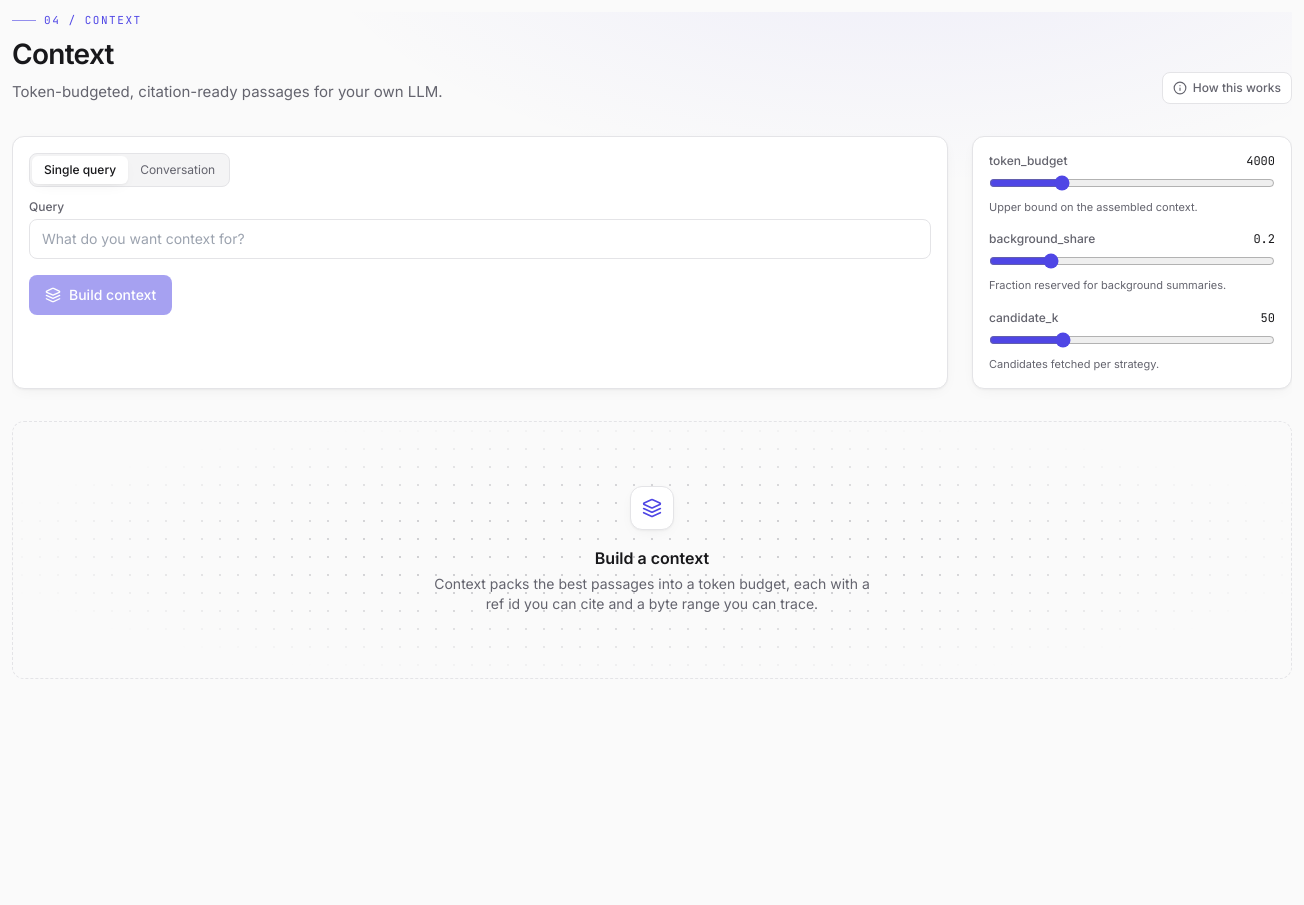
Test case: ContextPage › renders_a_failed_strategy_object_without_throwing
Step 1. Type "hello" into the field labelled "Query" → (480, 239), box [29, 219, 931, 259]
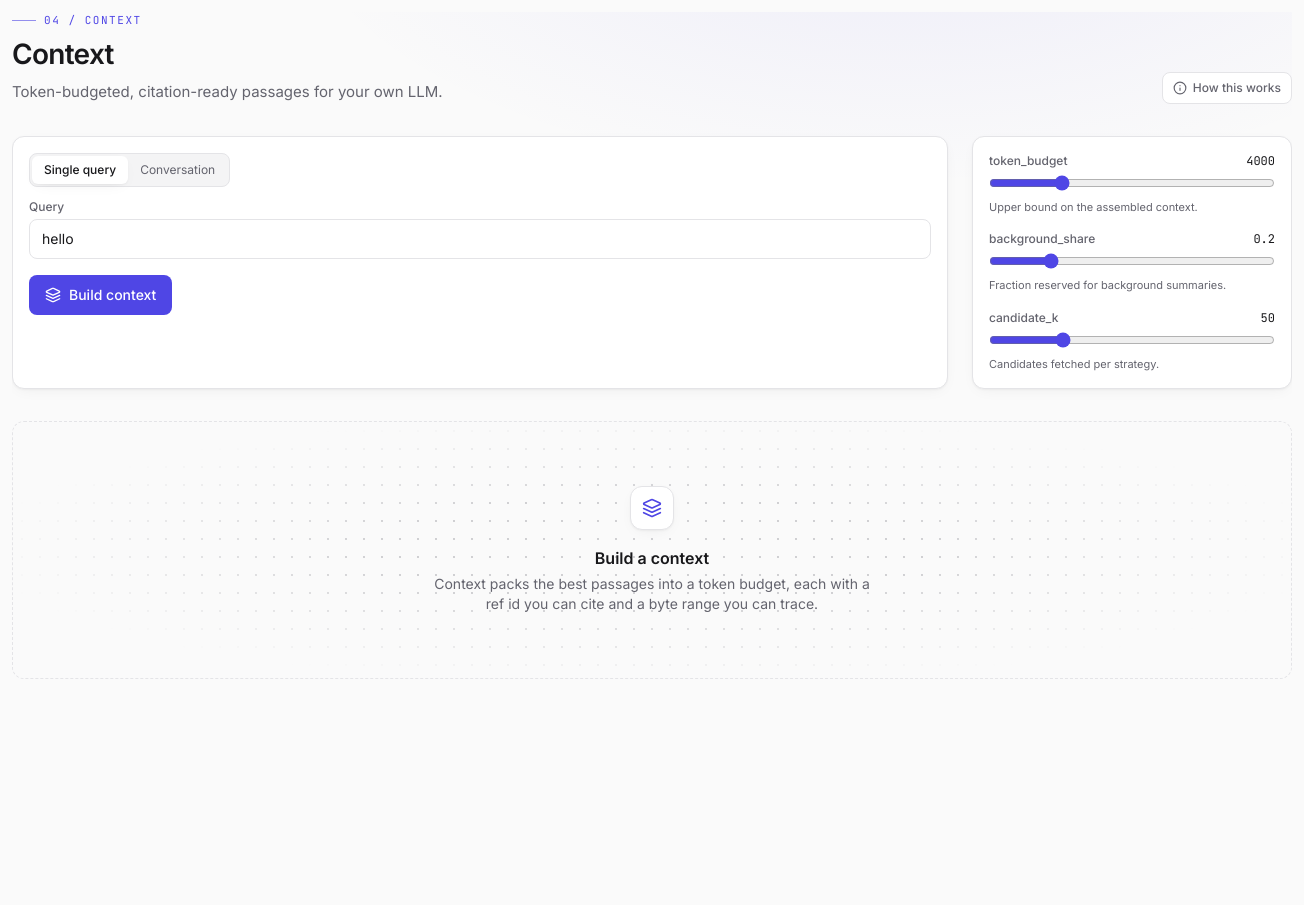
Step 2. Click the button "Build context" → (101, 295), box [29, 275, 172, 315]
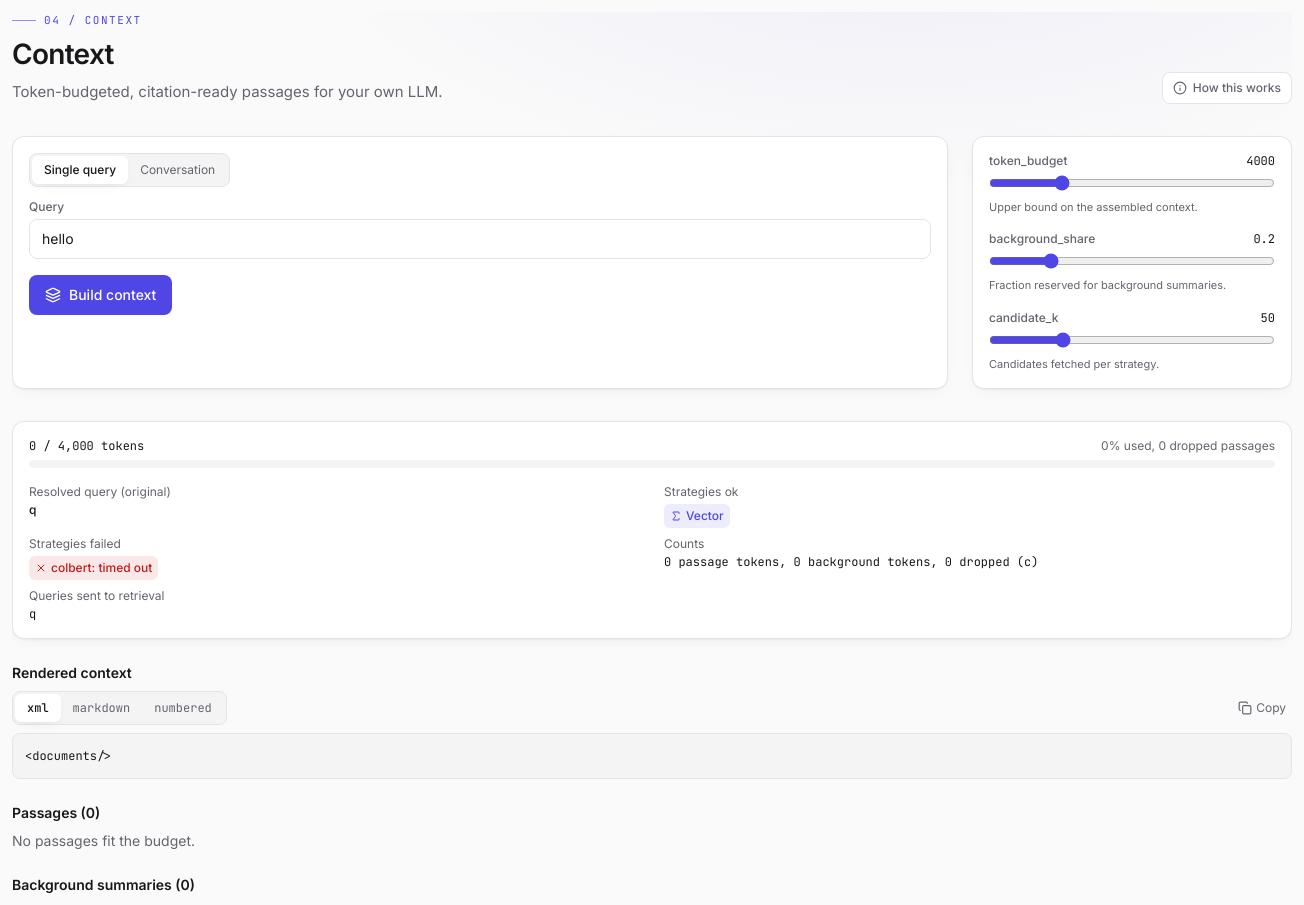
Now the text "colbert: timed out" is shown, box [29, 556, 158, 580]
